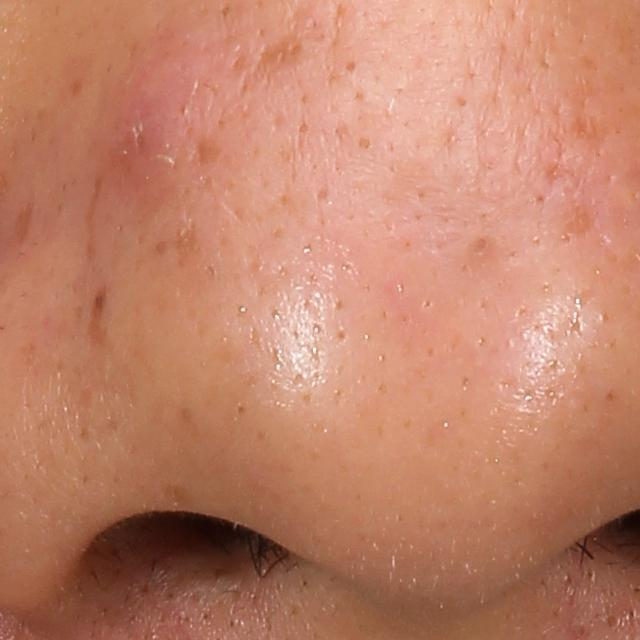comedo: (341, 57, 360, 76), (355, 132, 373, 151)
melasma: (251, 27, 313, 82), (84, 286, 114, 352), (8, 188, 39, 249)
